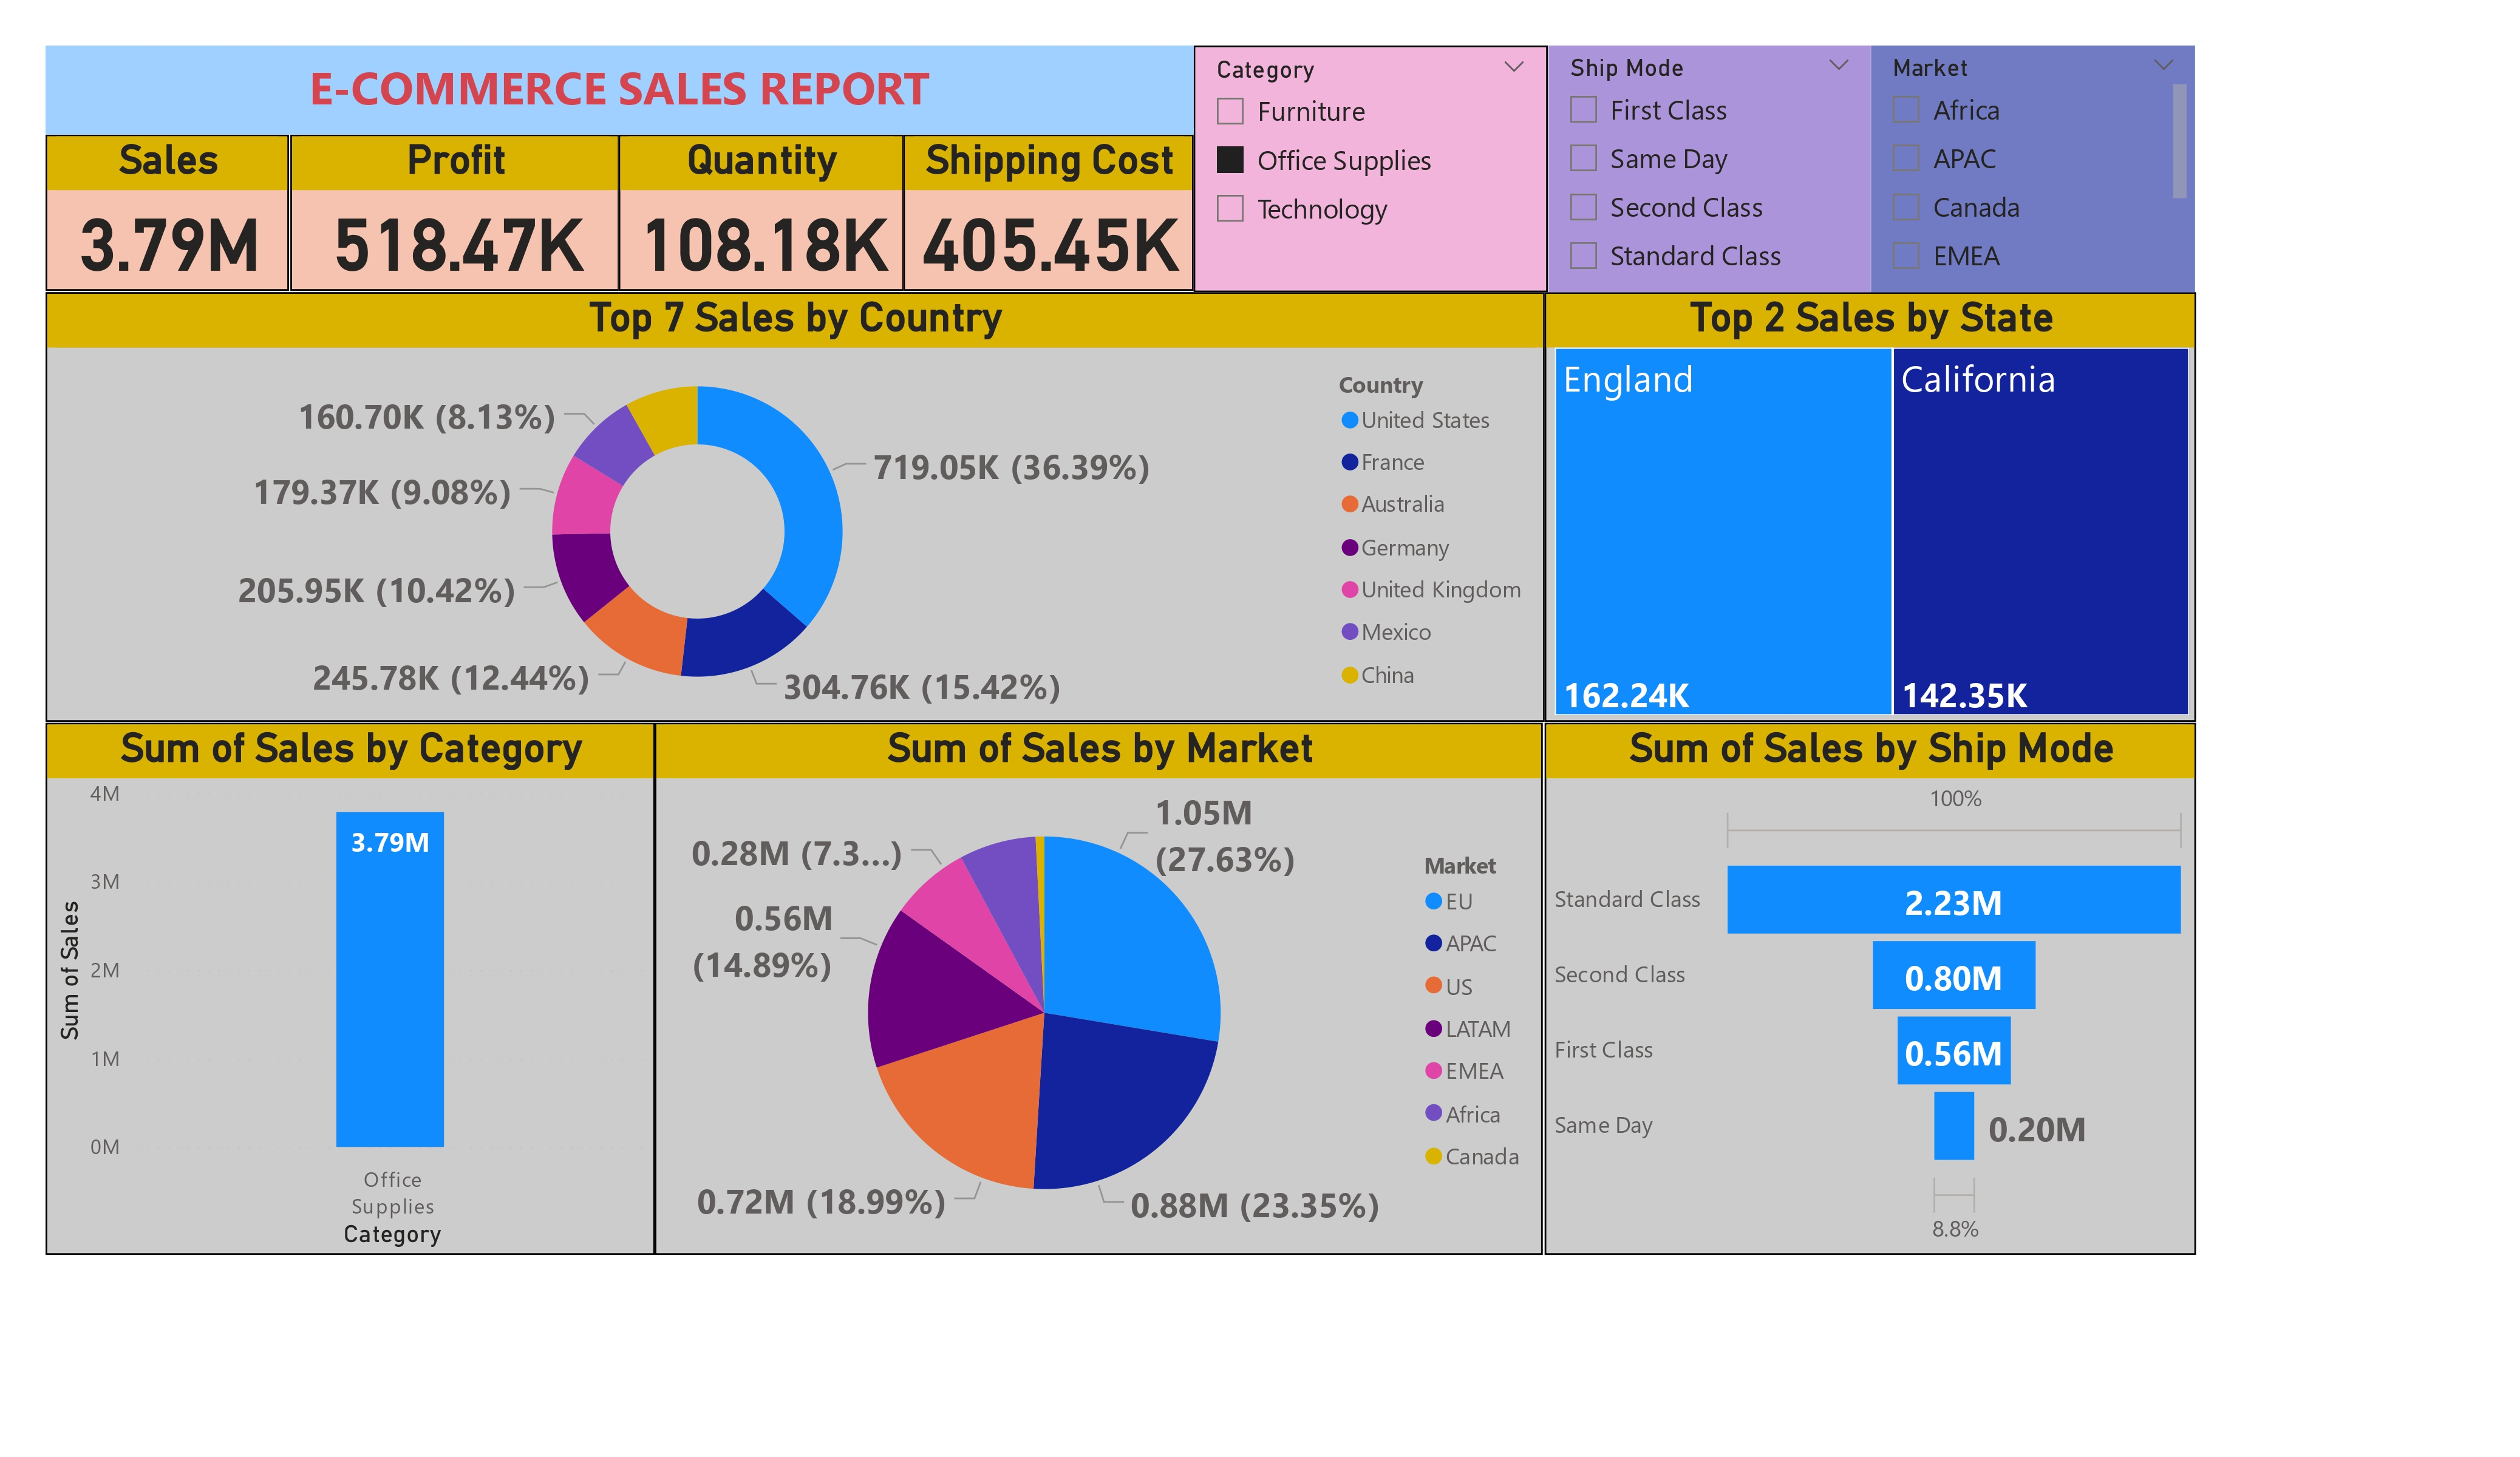

The dashboard page shown, as its layout file describes it:
{"tool":"powerbi","page":{"name":"Sales Report","canvas":[1280,720],"ordinal":0},"visuals":[{"type":"columnChart","fields":{"Category":["Orders.Category"],"Y":["Sum(Orders.Sales)"]},"box":[0,403.1,363.3,316.7],"z":0},{"type":"pieChart","fields":{"Category":["Orders.Market"],"Y":["Sum(Orders.Sales)"]},"box":[363.3,403.1,529.2,316.7],"z":1000},{"type":"funnel","fields":{"Category":["Orders.Ship Mode"],"Y":["Sum(Orders.Sales)"]},"box":[892.6,403.1,388,316.7],"z":2000},{"type":"donutChart","title":"Top 7 Sales by Country","fields":{"Category":["Orders.Country"],"Y":["Sum(Orders.Sales)"]},"box":[0,146.7,892.6,256.4],"z":3000},{"type":"treemap","title":"Top 2 Sales by State","fields":{"Group":["Orders.State"],"Values":["Sum(Orders.Sales)"]},"box":[892.6,146.7,388,256.4],"z":4000},{"type":"card","title":"Sales","fields":{"Values":["Sum(Orders.Sales)"]},"box":[0,53.5,145.3,93.2],"z":5000},{"type":"card","title":"Profit","fields":{"Values":["Sum(Orders.Profit)"]},"box":[145.3,53.5,196.1,93.2],"z":6000},{"type":"card","title":"Quantity","fields":{"Values":["Sum(Orders.Quantity)"]},"box":[341.4,53.5,170,93.2],"z":7000},{"type":"card","title":"Shipping Cost","fields":{"Values":["Sum(Orders.Shipping Cost)"]},"box":[511.4,53.5,172.8,93.2],"z":8000},{"type":"slicer","fields":{"Values":["Orders.Category"]},"box":[684.2,0,211.1,146.7],"z":9000},{"type":"slicer","fields":{"Values":["Orders.Market"]},"box":[1087.2,0,193.3,146.7],"z":10000},{"type":"slicer","fields":{"Values":["Orders.Ship Mode"]},"box":[895.3,0,191.9,146.7],"z":11000},{"type":"textbox","box":[0,0,684.2,53.5],"z":12000}]}

Visuals, with their boxes in screenshot pixels (x1, y1, x2, y2):
columnChart - Orders.Category x Sum(Orders.Sales): <bbox>46, 810, 735, 1411</bbox>
pieChart - Orders.Market x Sum(Orders.Sales): <bbox>735, 810, 1739, 1411</bbox>
funnel - Orders.Ship Mode x Sum(Orders.Sales): <bbox>1739, 810, 2474, 1411</bbox>
"Top 7 Sales by Country" donutChart: <bbox>46, 324, 1739, 810</bbox>
"Top 2 Sales by State" treemap: <bbox>1739, 324, 2474, 810</bbox>
"Sales" card: <bbox>46, 147, 321, 324</bbox>
"Profit" card: <bbox>321, 147, 693, 324</bbox>
"Quantity" card: <bbox>693, 147, 1016, 324</bbox>
"Shipping Cost" card: <bbox>1016, 147, 1344, 324</bbox>
slicer - Orders.Category: <bbox>1344, 46, 1745, 324</bbox>
slicer - Orders.Market: <bbox>2108, 46, 2474, 324</bbox>
slicer - Orders.Ship Mode: <bbox>1745, 46, 2108, 324</bbox>
textbox: <bbox>46, 46, 1344, 147</bbox>
